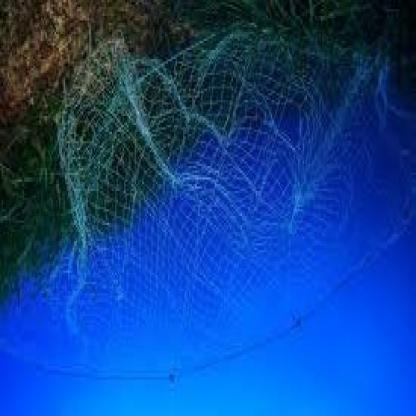net: (54, 37, 367, 328)
